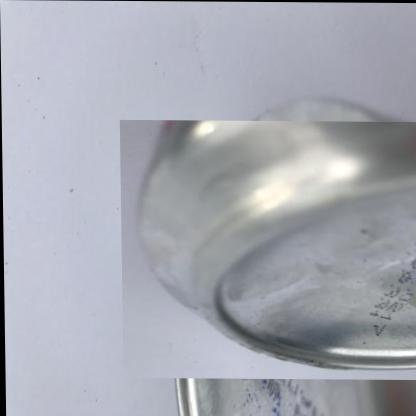trash: (139, 121, 415, 367)
